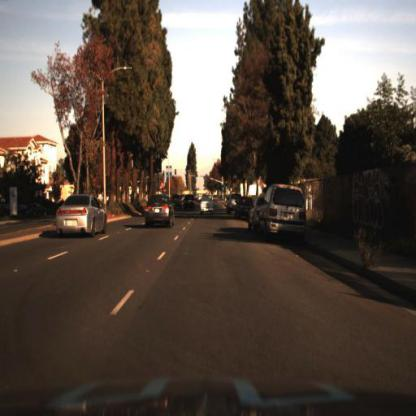car: (259, 184, 308, 246), (54, 192, 115, 239), (142, 196, 177, 231), (246, 195, 266, 233), (25, 200, 49, 220), (198, 194, 216, 218), (234, 197, 250, 223), (182, 197, 197, 220), (169, 191, 183, 212)
